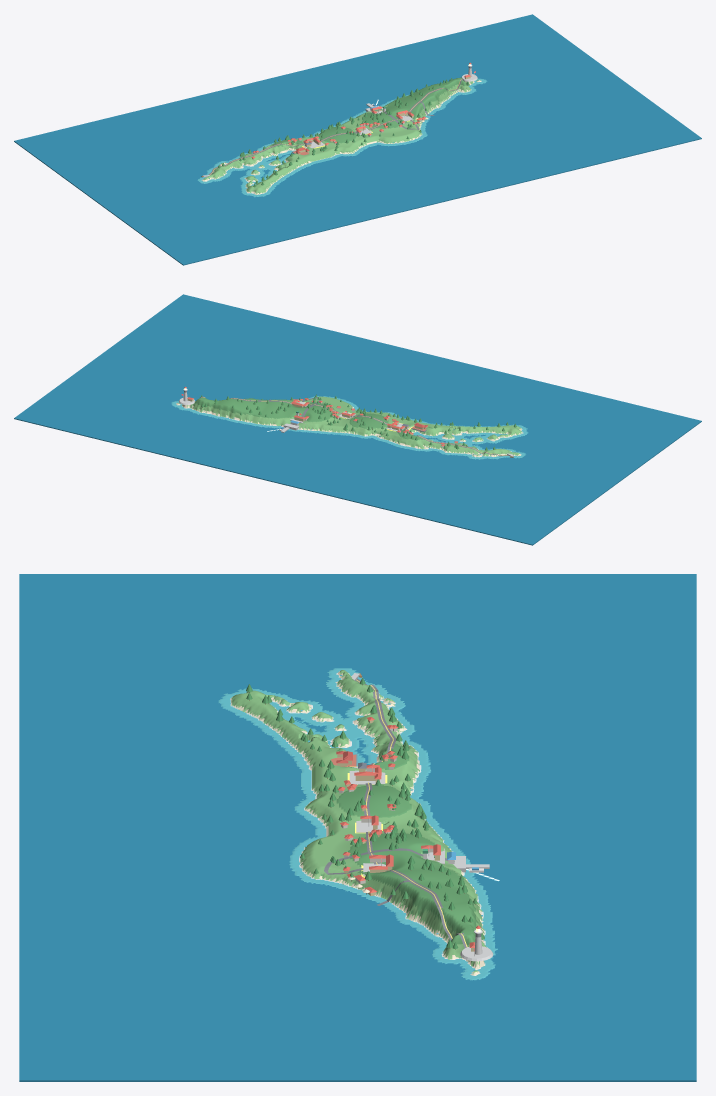
File: vinh_thuc_island.glb
The picture shows the model from 3 angles, top to bottom: view 1: azimuth 30°, elevation 25°; view 2: azimuth 150°, elevation 25°; view 3: azimuth 270°, elevation 25°; orthographic projection. The views are drawn at different scales.
Visible parts, largest first — view 1: VinhThuc_Island_3D; view 2: VinhThuc_Island_3D; view 3: VinhThuc_Island_3D.
Boxes of the visible parts, <box> form: VinhThuc_Island_3D: <box>14,14,701,265</box>; VinhThuc_Island_3D: <box>14,294,701,545</box>; VinhThuc_Island_3D: <box>19,574,696,1081</box>.
Size of the model in its own units: 230 by 8.94 by 130.
